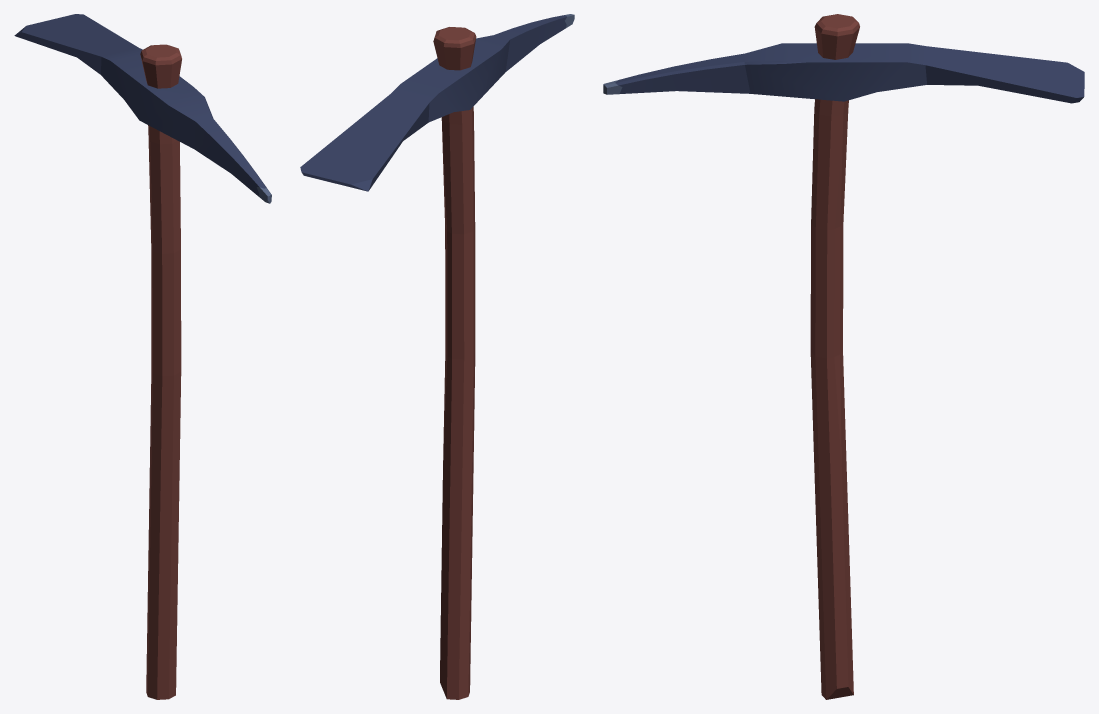
The model's file is Pickaxe.fbx.
3 renders of one model, left to right at view 1: azimuth 30°, elevation 25°; view 2: azimuth 150°, elevation 25°; view 3: azimuth 270°, elevation 25°, orthographic. The views are drawn at different scales.
Parts seen in each view (by area): view 1: PoorMan PickAxe; view 2: PoorMan PickAxe; view 3: PoorMan PickAxe.
Part boxes in pixels (x1=…): PoorMan PickAxe: x1=14, y1=14, x2=271, y2=699; PoorMan PickAxe: x1=300, y1=14, x2=574, y2=699; PoorMan PickAxe: x1=603, y1=14, x2=1084, y2=699.
Size of the model in its own units: 14.39 by 130 by 84.37.
